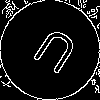U: (25, 25, 81, 84)
